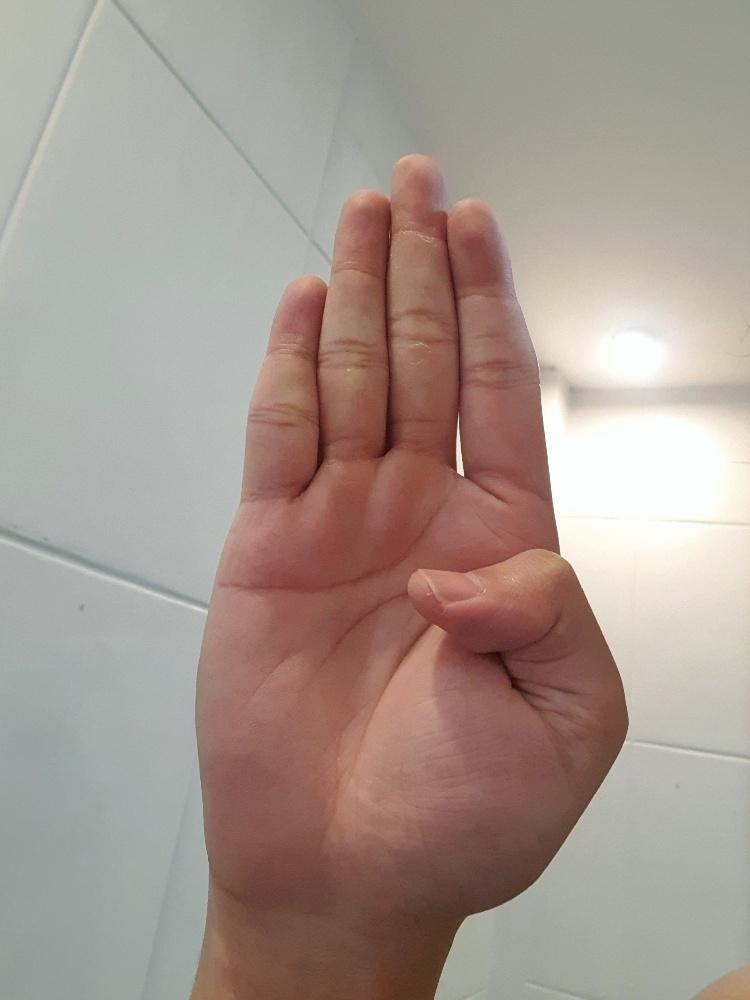b: (191, 148, 632, 923)
